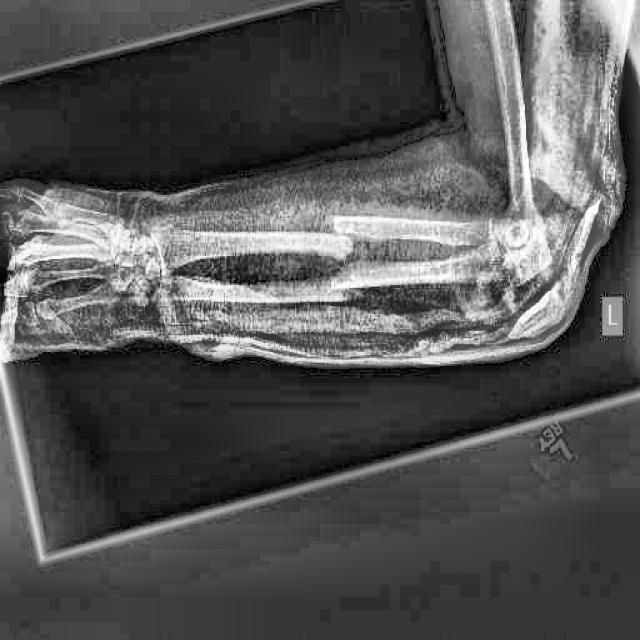forearm fracture: (300, 188, 373, 272), (311, 248, 380, 319)
